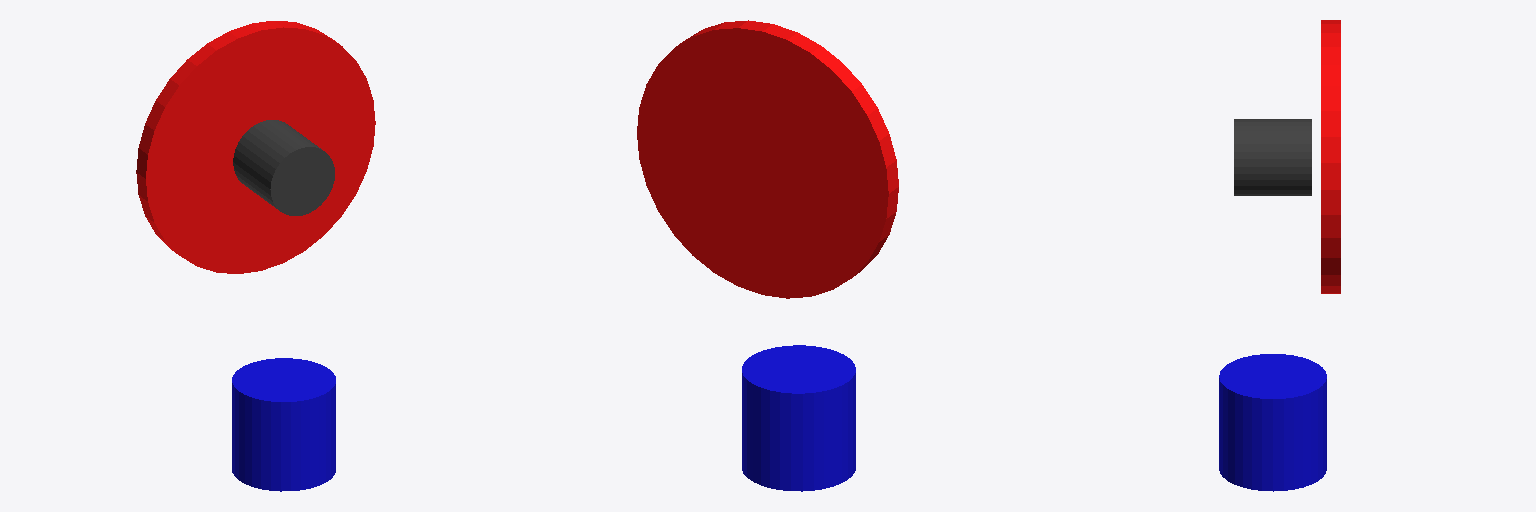
The robot description file, URDF, robot "cmg_device":
<?xml version="1.0" ?>
<!-- =================================================================================== -->
<!-- |    This document was autogenerated by xacro from foobar.urdf.xacro              | -->
<!-- |    EDITING THIS FILE BY HAND IS NOT RECOMMENDED                                 | -->
<!-- =================================================================================== -->
<robot name="cmg_device">
  <!-- needed Gazebo defs -->
  <!-- Materials for rviz Visualization -->
  <material name="flywheel_color">
    <color rgba="1.0 0.1 0.1 1.0"/>
  </material>
  <material name="frame_color">
    <color rgba="0.5 0.7 0.5 1.0"/>
  </material>
  <material name="actuator_color">
    <color rgba="0.3 0.3 0.3 1.0"/>
  </material>

  <link name="dummy_link">
  </link>
  
  <!-- flywheel -->
  <link name="flywheel_disk1">
    <visual>
      <geometry>
        <cylinder length="0.0127" radius="0.0889"/>
      </geometry>
      <origin rpy="1.5707963267948966 1.5707963267948966 0.0" xyz="0.0 -0.0127 0.0"/>
      <material name="flywheel_color"/>
    </visual>
    <!-- collision includes integrated annulus disk for simplification -->
    <collision>
      <geometry>
        <cylinder length="0.0254" radius="0.0889"/>
      </geometry>
      <origin rpy="1.5707963267948966 1.5707963267948966 0.0" xyz="0.0 -0.00635 0.0"/>
    </collision>
    <inertial>
      <mass value="3.048381"/>
      <inertia ixx="0.00606397" ixy="0" ixz="0" iyy="0.00606397" iyz="0" izz="0.012046"/>
      <origin rpy="1.5707963267948966 1.5707963267948966 0.0" xyz="0.0 -0.00635 0.0"/>
    </inertial>
  </link>
  <!-- NOTE: annular disk mesh created (i.e. "hard-coded" on https://stl.parts) -->
  <link name="flywheel_annulus">
    <visual>
      <geometry>
        <mesh filename="file:///disk1/home/trucker/ROS2dev/staebltech_ws/install/cmgdevice_description/share/cmgdevice_description/meshes/annular_disk_178out_152in_diam.stl" scale="0.001 0.001 0.001"/>
      </geometry>
      <origin rpy="1.5707963267948966 1.5707963267948966 0.0" xyz="0.0 -0.0127 0.0"/>
      <material name="flywheel_color"/>
    </visual>
    <inertial>
      <mass value="0.435483"/>
      <inertia ixx="0.00149843" ixy="0" ixz="0" iyy="0.00149843" iyz="0" izz="0.00298516"/>
      <origin rpy="1.5707963267948966 1.5707963267948966 0.0" xyz="0.0 -0.0127 0.0"/>
    </inertial>
  </link>
  <!-- mount the annulus disk to the mainflywheel -->
  <joint name="flywheel_annulus_joint" type="fixed">
    <parent link="flywheel_disk1"/>
    <child link="flywheel_annulus"/>
    <origin rpy="0 0 0" xyz="0 0 0"/>
  </joint>
  <link name="flywheel_servo">
    <visual>
      <geometry>
        <cylinder length="0.05" radius="0.025"/>
      </geometry>
      <origin rpy="1.5707963267948966 0.0 0.0" xyz="0 0 0"/>
      <material name="actuator_color"/>
    </visual>
    <inertial>
      <mass value="0.559"/>
      <inertia ixx="0.0002038020833333334" ixy="0" ixz="0" iyy="0.0002038020833333334" iyz="0" izz="0.00017468750000000004"/>
      <origin rpy="1.5707963267948966 0.0 0.0" xyz="0.0 0.0504 0.0"/>
    </inertial>
  </link>
  <joint name="flywheel_joint" type="revolute">
    <parent link="flywheel_servo"/>
    <child link="flywheel_disk1"/>
    <axis xyz="0 1 0"/>
    <!-- origin rpy="${fw_disk_rx} ${fw_disk_ry} ${fw_disk_rz}" xyz="${fw_disk_x} ${fw_disk_y} ${fw_disk_z}" / -->
    <origin rpy="0 0 0" xyz="0.0 0.0504 0.0"/>
    <limit effort="1000" lower="-3.14159" upper="3.14159" velocity="5670.0"/>
  </joint>
  <link name="torque_servo">
    <visual>
      <geometry>
        <cylinder length="0.066" radius="0.035"/>
      </geometry>
      <!-- origin rpy="0 0 0" xyz="${torq_servo_x} ${torq_servo_y} ${torq_servo_z}" /> -->
      <origin rpy="0 0 0" xyz="0 0 0"/>
      <material name="blue">
        <color rgba="0.1 0.1 0.9 1.0"/>
      </material>
    </visual>
    <inertial>
      <mass value="1.089"/>
      <inertia ixx="0.0007288132500000001" ixy="0" ixz="0" iyy="0.0007288132500000001" iyz="0" izz="0.0006670125000000001"/>
      <!-- origin rpy="0 0 0" xyz="${torq_servo_x} ${torq_servo_y} ${torq_servo_z}" /> -->
    </inertial>
  </link>
      
  <joint name="torque_servo_joint" type="revolute">
    <parent link="dummy_link"/>
    <child link="torque_servo"/>
    <axis xyz="0 0 1"/>
    <origin rpy="0 0 0" xyz="0.0 0.0 0.18980000000000002"/>
    <limit effort="22.6" lower="-3.14159" upper="3.14159" velocity="1000"/>
  </joint>

  <joint name="roll_moment_joint" type="fixed">
    <parent link="torque_servo"/>
    <child link="flywheel_servo"/>
    <axis xyz="0 0 1"/>
    <origin rpy="0 0 0" xyz="0.0 0.0 0.18980000000000002"/>
    <limit effort="22.6" lower="-0.7853981633974483" upper="0.7853981633974483" velocity="1000"/>
  </joint>
</robot>

--- Render facts (derived) ---
Views: 3 orthographic renders of the robot side by side, from view 1: azimuth 30°, elevation 25°; view 2: azimuth 150°, elevation 25°; view 3: azimuth 270°, elevation 25°.
Robot: cmg_device — 5 links, 4 joints (2 revolute, 2 fixed); root link dummy_link; default pose: all joints at 0.
Links seen in each view (by area): view 1: flywheel_disk1, torque_servo, flywheel_servo; view 2: flywheel_disk1, torque_servo; view 3: torque_servo, flywheel_servo, flywheel_disk1.
Link boxes in pixels (x1,y1,x2,y2): flywheel_disk1: (136, 21, 375, 273); torque_servo: (232, 358, 335, 491); flywheel_servo: (233, 120, 334, 215); flywheel_disk1: (637, 20, 898, 298); torque_servo: (742, 345, 855, 491); torque_servo: (1219, 354, 1326, 491); flywheel_servo: (1234, 119, 1311, 195); flywheel_disk1: (1321, 20, 1340, 293).
Size in the robot's own frame: 0.1778 by 0.0791 by 0.3117 metres.
Geometry: only primitive shapes (box / cylinder / sphere) drawn; not drawn: 1 mesh visual (reference in a form the renderer does not follow).
